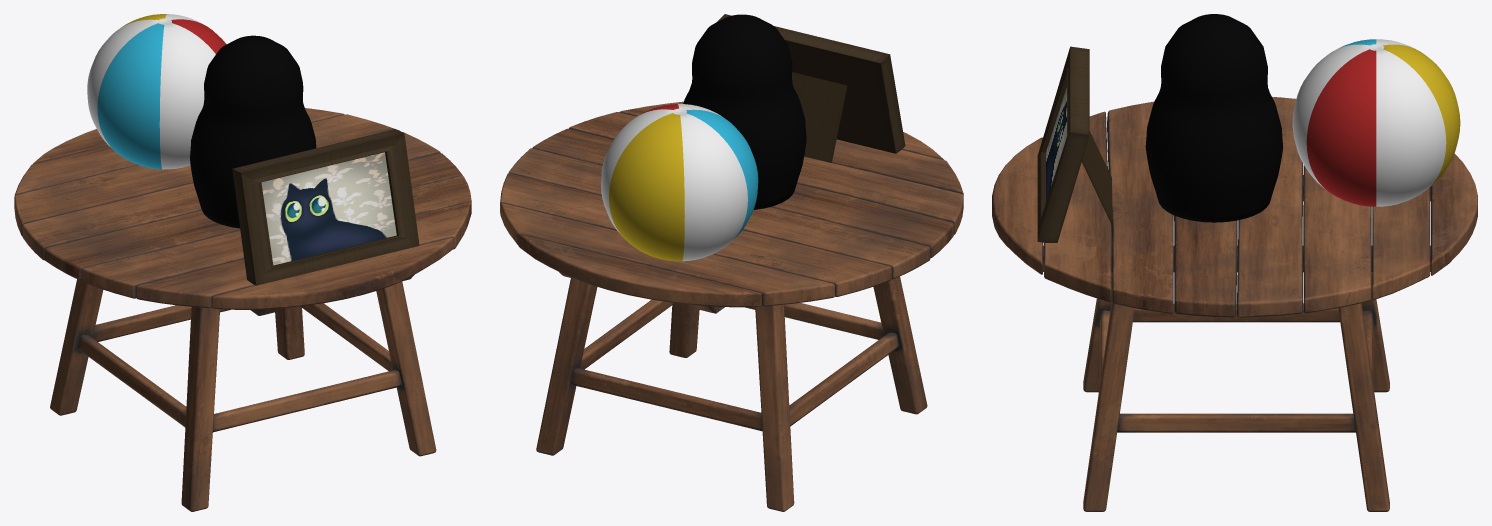
The model's file is shad_D.glb.
3 renders of one model, left to right at view 1: azimuth 30°, elevation 25°; view 2: azimuth 150°, elevation 25°; view 3: azimuth 270°, elevation 25°, orthographic. The views are drawn at different scales.
Visible parts, largest first — view 1: Table, Plane_0, Sphere, Circle; view 2: Table, Sphere, Circle, Plane_0; view 3: Table, Circle, Sphere, Plane_0.
Part boxes in pixels (x1,y1,x2,y2): Table: [14, 108, 471, 511]; Plane_0: [232, 129, 419, 285]; Sphere: [87, 14, 226, 169]; Circle: [190, 35, 316, 228]; Table: [500, 101, 963, 511]; Sphere: [601, 104, 758, 261]; Circle: [683, 14, 806, 209]; Plane_0: [717, 14, 905, 162]; Table: [992, 97, 1477, 511]; Circle: [1145, 14, 1283, 222]; Sphere: [1292, 39, 1460, 206]; Plane_0: [1037, 46, 1112, 242].
Bounding box in the file's own units: 2 × 1.92 × 1.97.
Materials: 8 (3 with a texture image).
